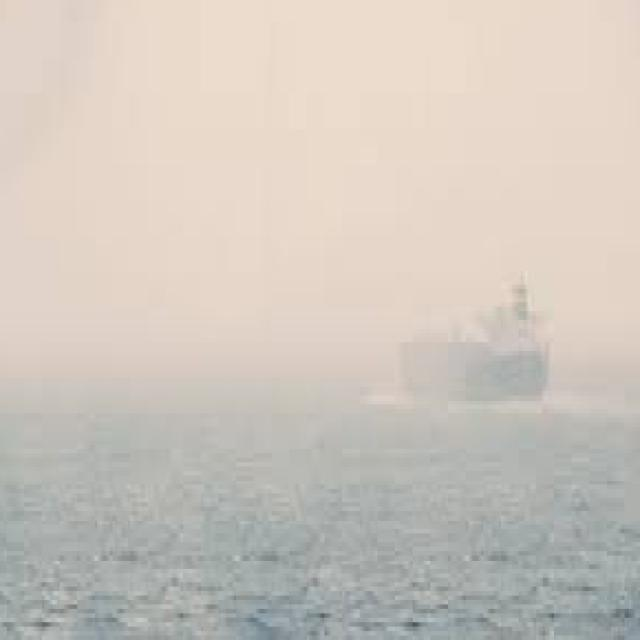cargoship: (404, 277, 553, 398)
